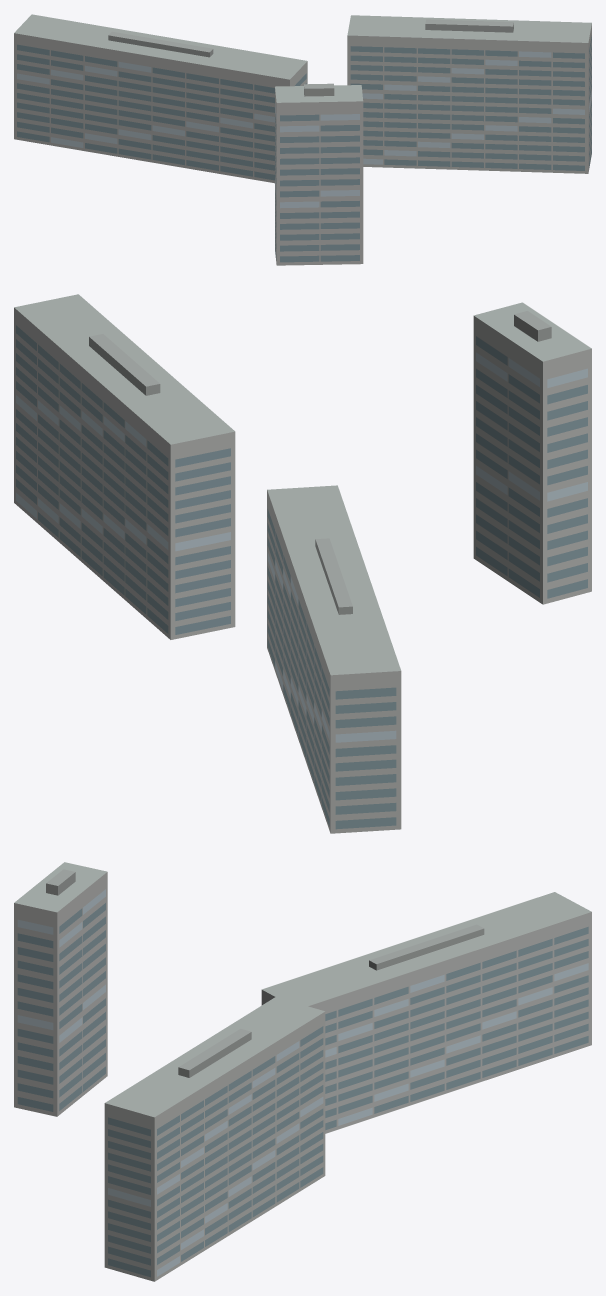
File: apt-a13295201.glb
3 renders of one model, top to bottom at view 1: azimuth 30°, elevation 25°; view 2: azimuth 150°, elevation 25°; view 3: azimuth 270°, elevation 25°, orthographic. The views are drawn at different scales.
Parts seen in each view (by area): view 1: apt-a13295201; view 2: apt-a13295201; view 3: apt-a13295201.
Part boxes in pixels (x1,y1,x2,y2): apt-a13295201: (14, 14, 591, 265); apt-a13295201: (14, 294, 591, 833); apt-a13295201: (14, 862, 591, 1281).
Bounding box in the file's own units: 118 × 46 × 113.
